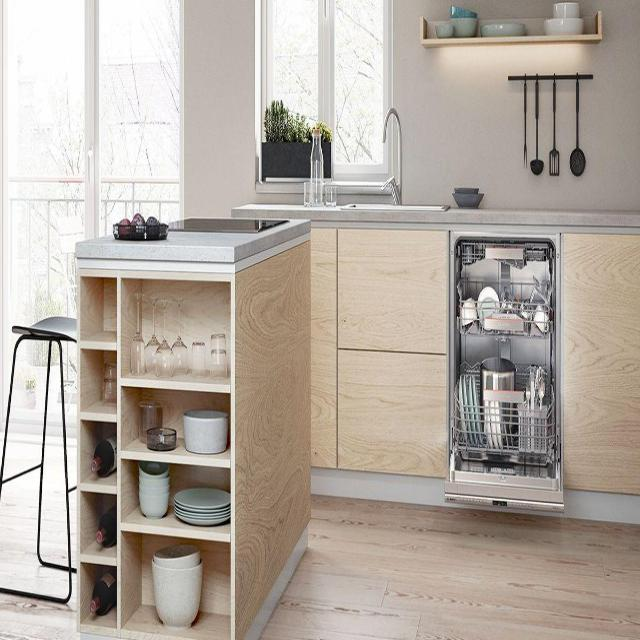dishwasher: (439, 221, 568, 522)
